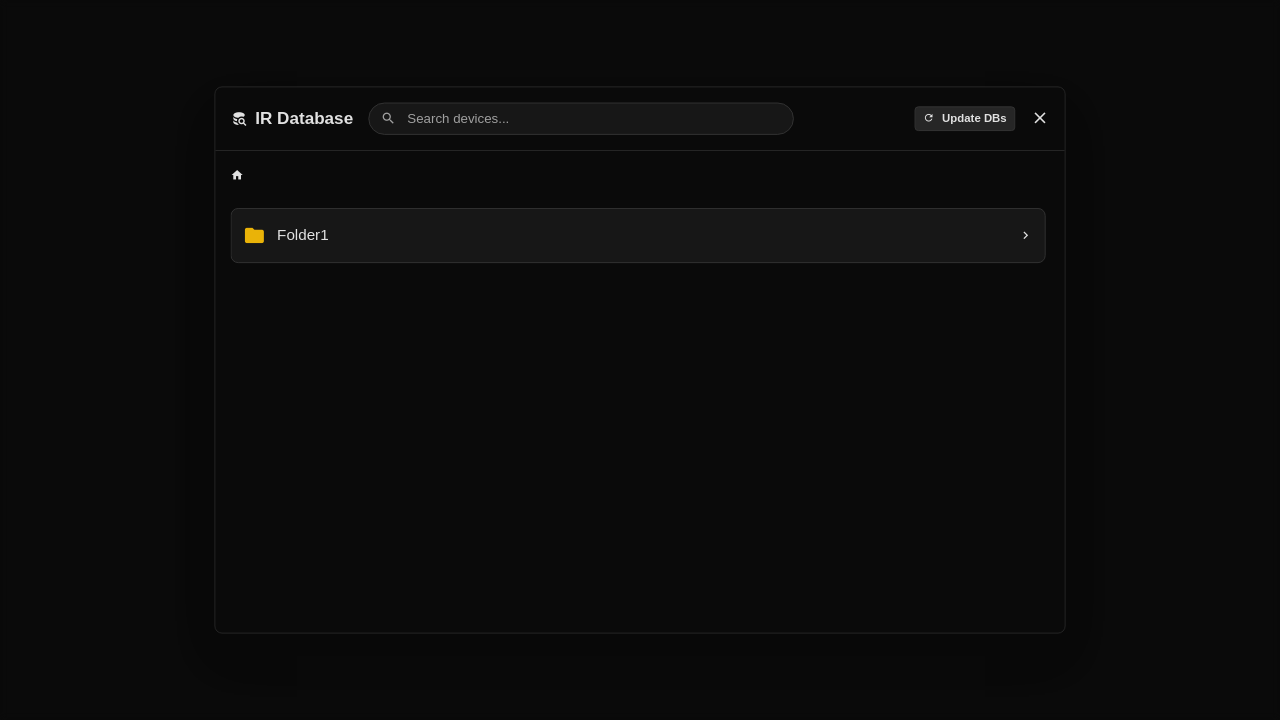
Scenario: IrDbPicker.vue › navigates into a directory and back up
Navigate into Folder1
Click the icon with class "mdi-folder": {"x": 254, "y": 236} [243,220,266,251]
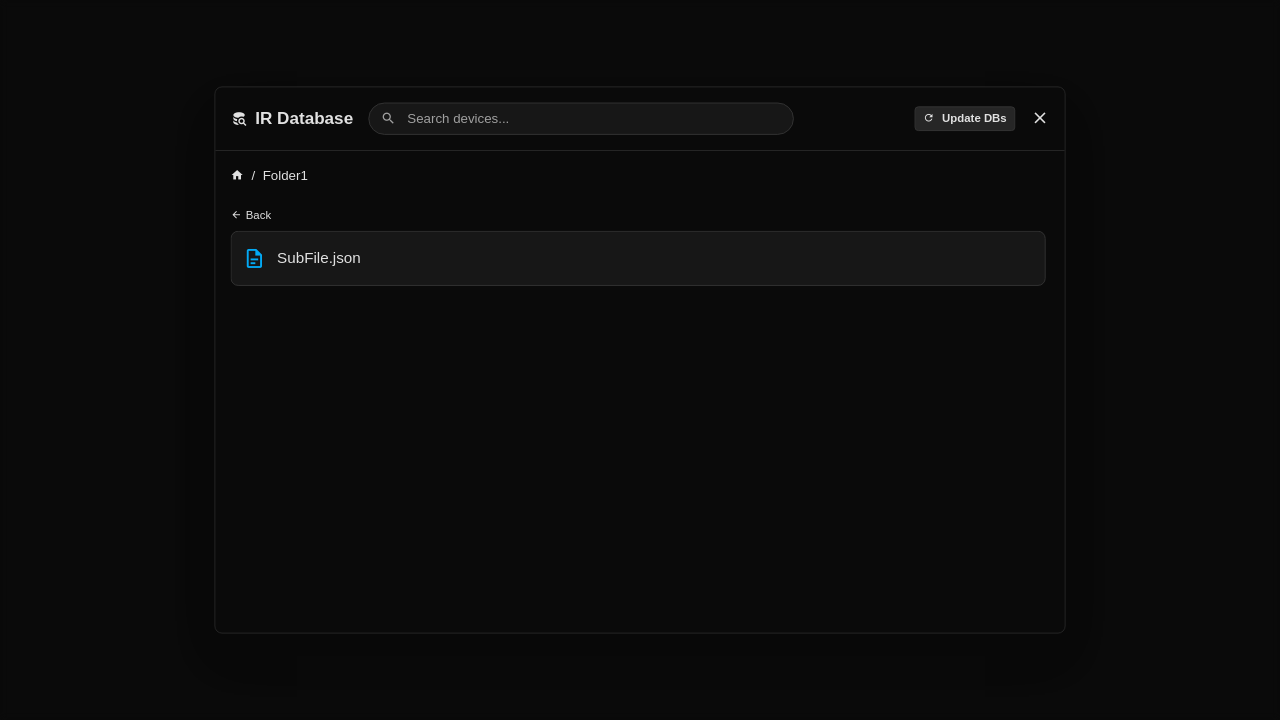
Expected: the text "SubFile.json" is shown, [277,247,361,270]
Expected: the element with class "mb-4" shows "Folder1", [263,166,308,185]
Click the icon with class "mdi-arrow-left": {"x": 236, "y": 216} [230,208,242,223]
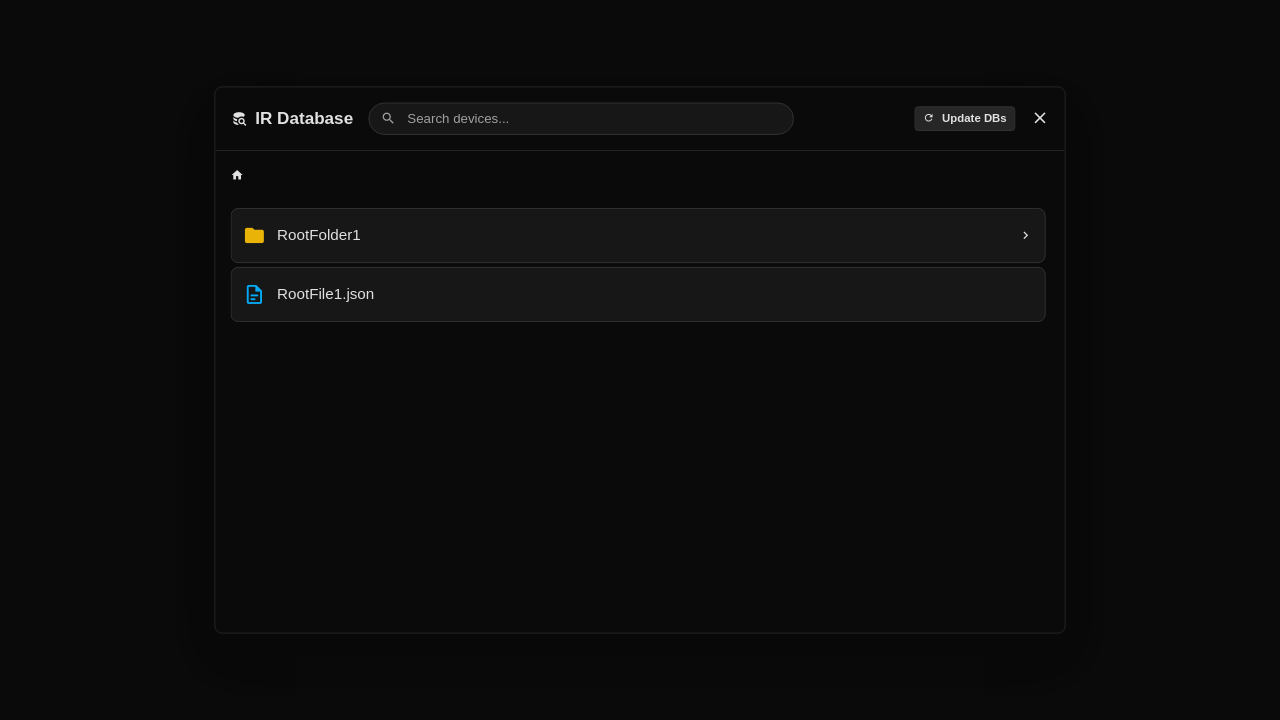
Expected: the text "RootFolder1" is shown, [277,224,361,247]
Expected: the text "RootFile1.json" is shown, [277,283,374,306]
Expected: the text "SubFile.json" is gone
